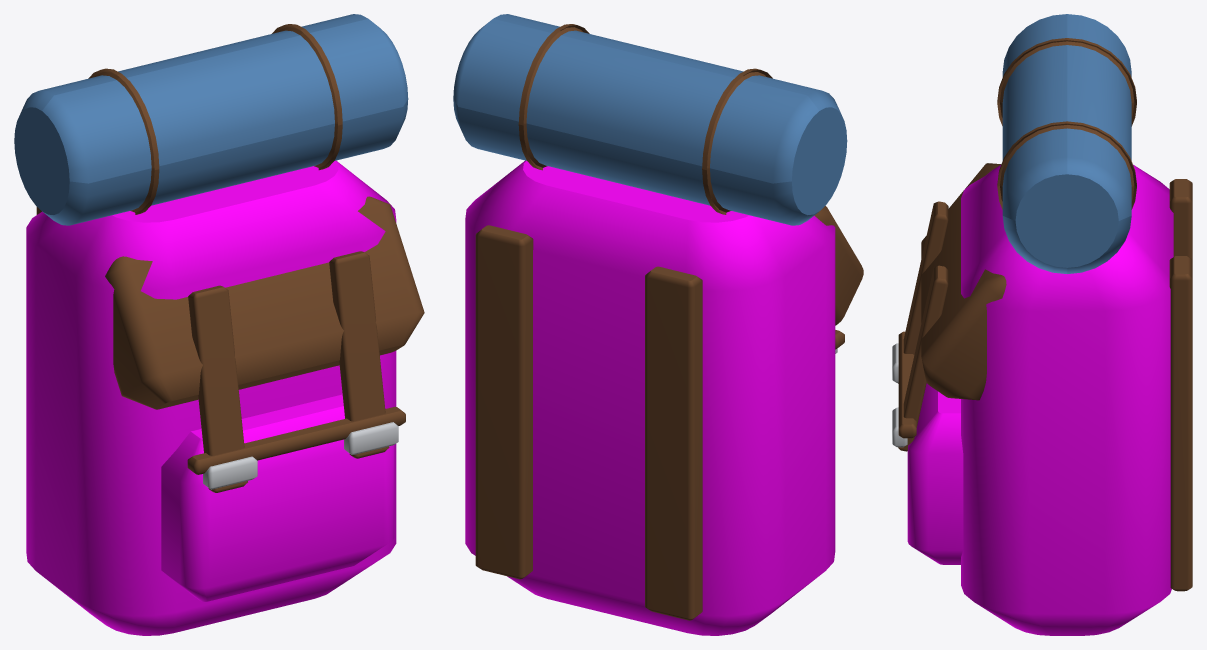
File: objet_sac_a_dos.glb
3 renders of one model, left to right at view 1: azimuth 30°, elevation 25°; view 2: azimuth 150°, elevation 25°; view 3: azimuth 270°, elevation 25°, orthographic. The views are drawn at different scales.
Visible parts, largest first — view 1: sac_teinte.002, sac_couverture.002, sac_sac_cuir.002, sac_boucle.002; view 2: sac_teinte.002, sac_couverture.002, sac_sac_cuir.002; view 3: sac_teinte.002, sac_couverture.002, sac_sac_cuir.002, sac_boucle.002.
Boxes of the visible parts, x1,y1,x2,y2 form: sac_teinte.002: [26, 160, 396, 635]; sac_couverture.002: [14, 14, 408, 225]; sac_sac_cuir.002: [36, 24, 424, 492]; sac_boucle.002: [203, 422, 398, 489]; sac_teinte.002: [465, 160, 835, 635]; sac_couverture.002: [453, 14, 847, 225]; sac_sac_cuir.002: [475, 24, 863, 620]; sac_teinte.002: [907, 164, 1173, 635]; sac_couverture.002: [1002, 14, 1131, 273]; sac_sac_cuir.002: [898, 38, 1192, 591]; sac_boucle.002: [892, 343, 907, 447].
Bounding box in the file's own units: 0.24 × 0.366 × 0.1975.
